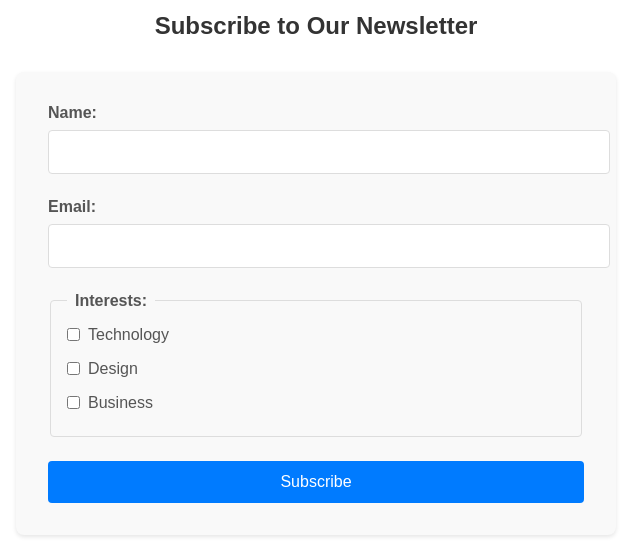
displays success message with user data after form submission
Note: Fill out the form
Type "Jane Smith" into the field labelled "Name:". click: (329, 152)
box: [48, 130, 610, 174]
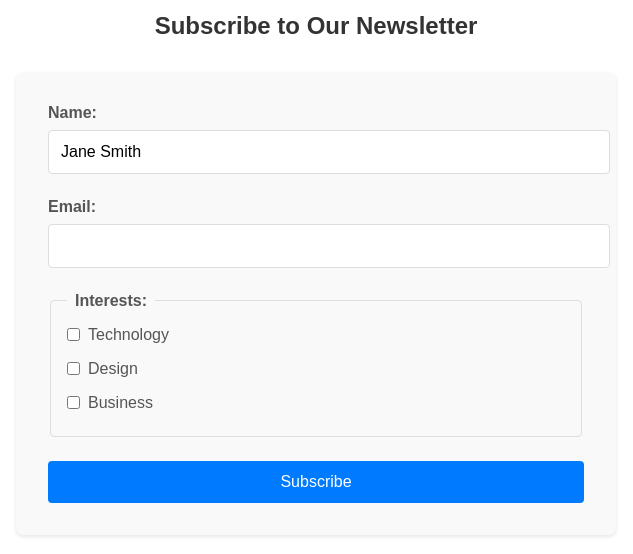
Type "jane@example.com" into the field labelled "Email:". click: (329, 246)
box: [48, 224, 610, 268]
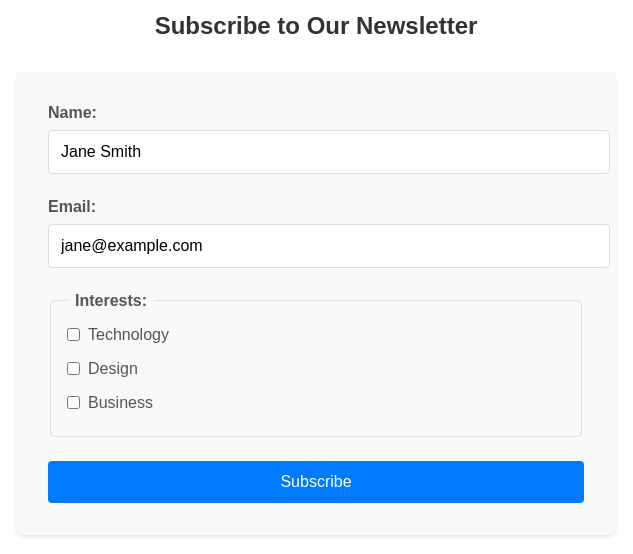
Click the checkbox labelled "Technology". click: (74, 335)
box: [67, 328, 80, 341]
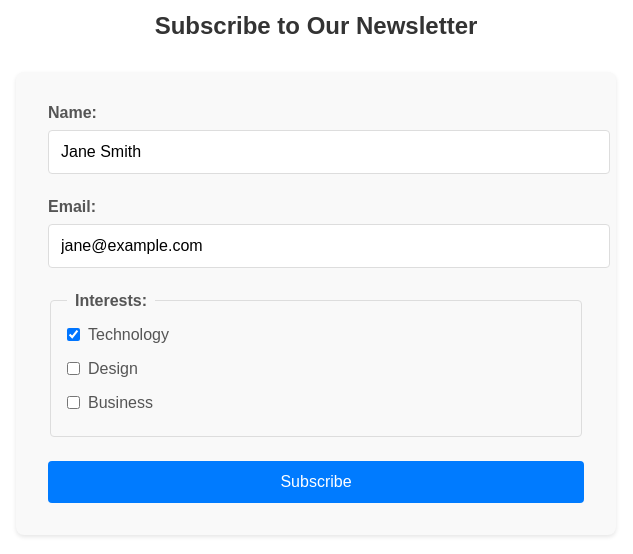
Click the checkbox labelled "Business". click: (74, 403)
box: [67, 396, 80, 409]
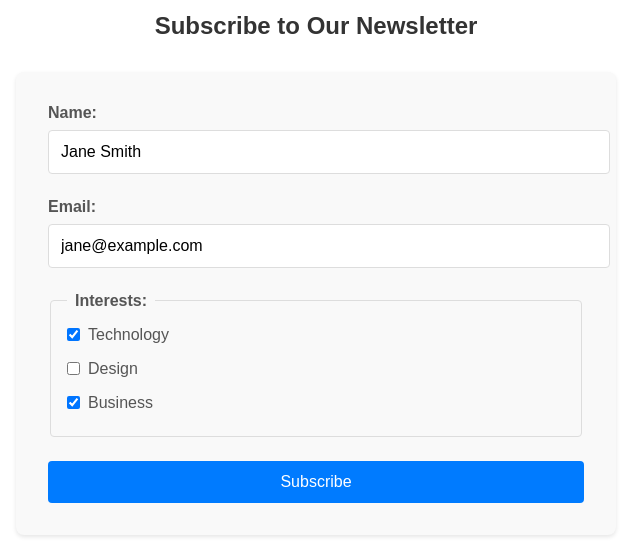
Note: Submit the form
Click the button "Subscribe". click: (316, 482)
box: [48, 461, 584, 503]
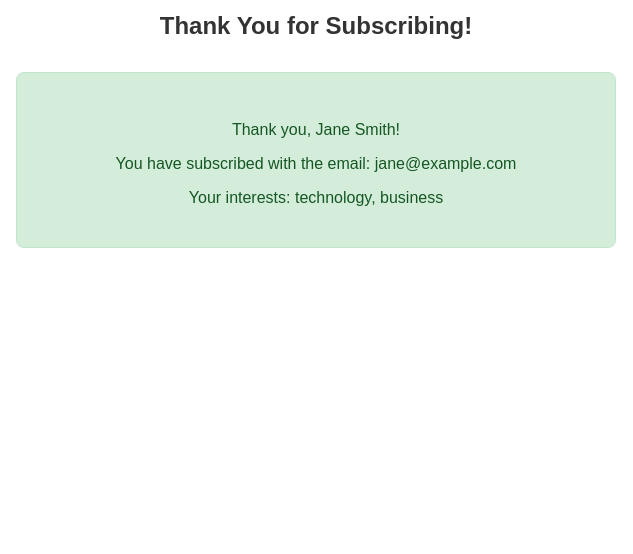
Result: the text "Thank you, Jane Smith!" is shown at [232, 121, 400, 138]
Result: the text "You have subscribed with the email: jane@example.com" is shown at [116, 155, 516, 172]
